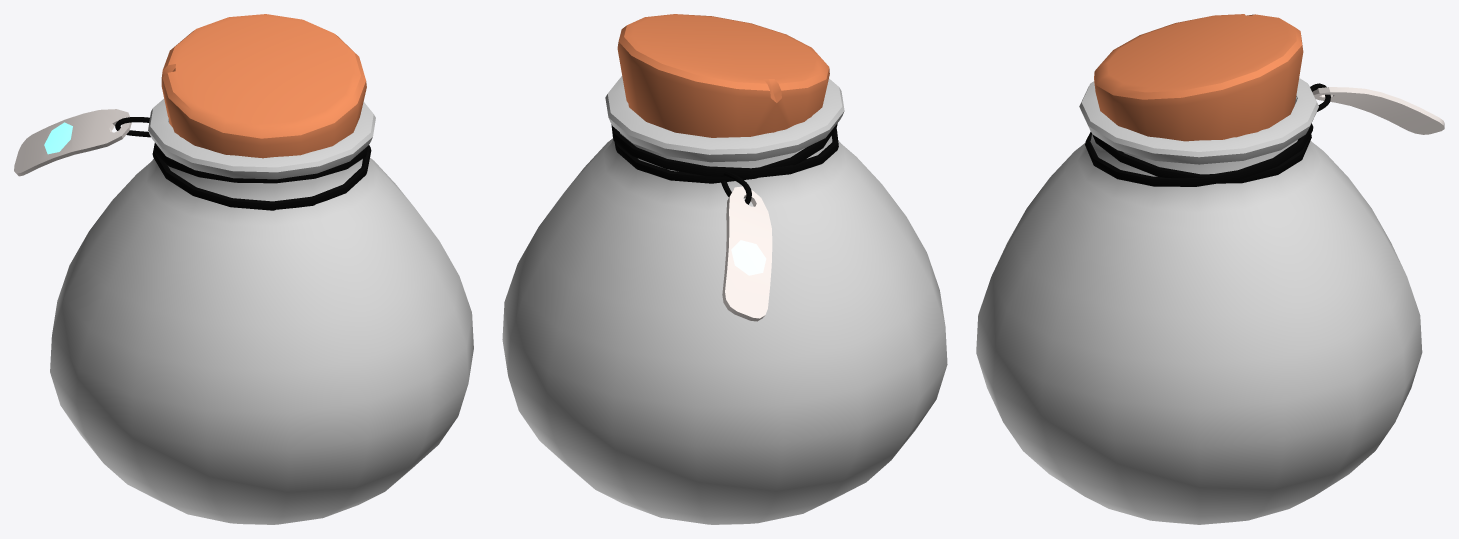
The model's file is ColorBottleV1.fbx.
3 views of the same model, side by side, from view 1: azimuth 30°, elevation 25°; view 2: azimuth 150°, elevation 25°; view 3: azimuth 270°, elevation 25° (orthographic). The views are drawn at different scales.
Visible parts, largest first — view 1: ColorBottleV1; view 2: ColorBottleV1; view 3: ColorBottleV1.
Part boxes in pixels (bbox=[...]): ColorBottleV1: bbox=[14, 14, 473, 524]; ColorBottleV1: bbox=[502, 14, 947, 524]; ColorBottleV1: bbox=[976, 14, 1444, 524].
Size of the model in its own units: 152 by 176 by 160.
